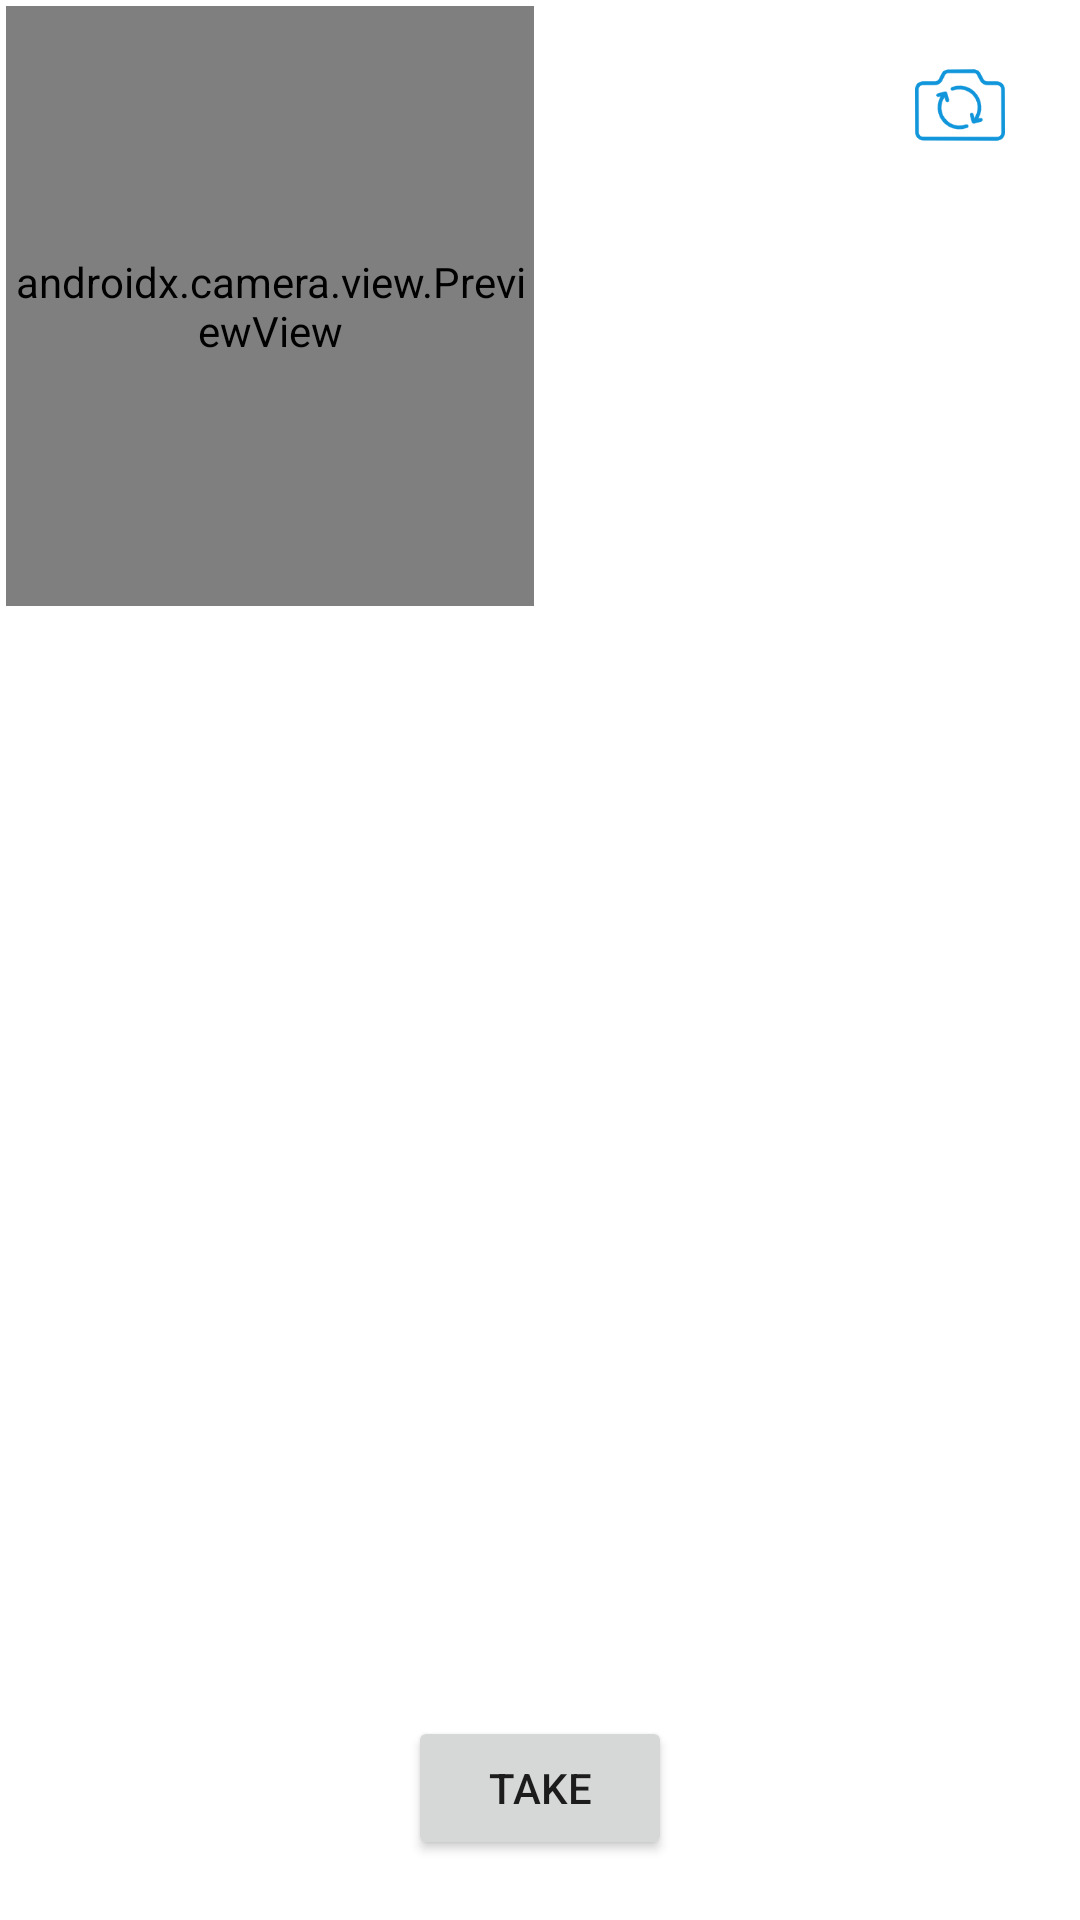

Icon bounding boxes for this 1080x1920 phone screenshot, format (x1, y1, x2, y2):
camera select: (915, 69, 1005, 141)
